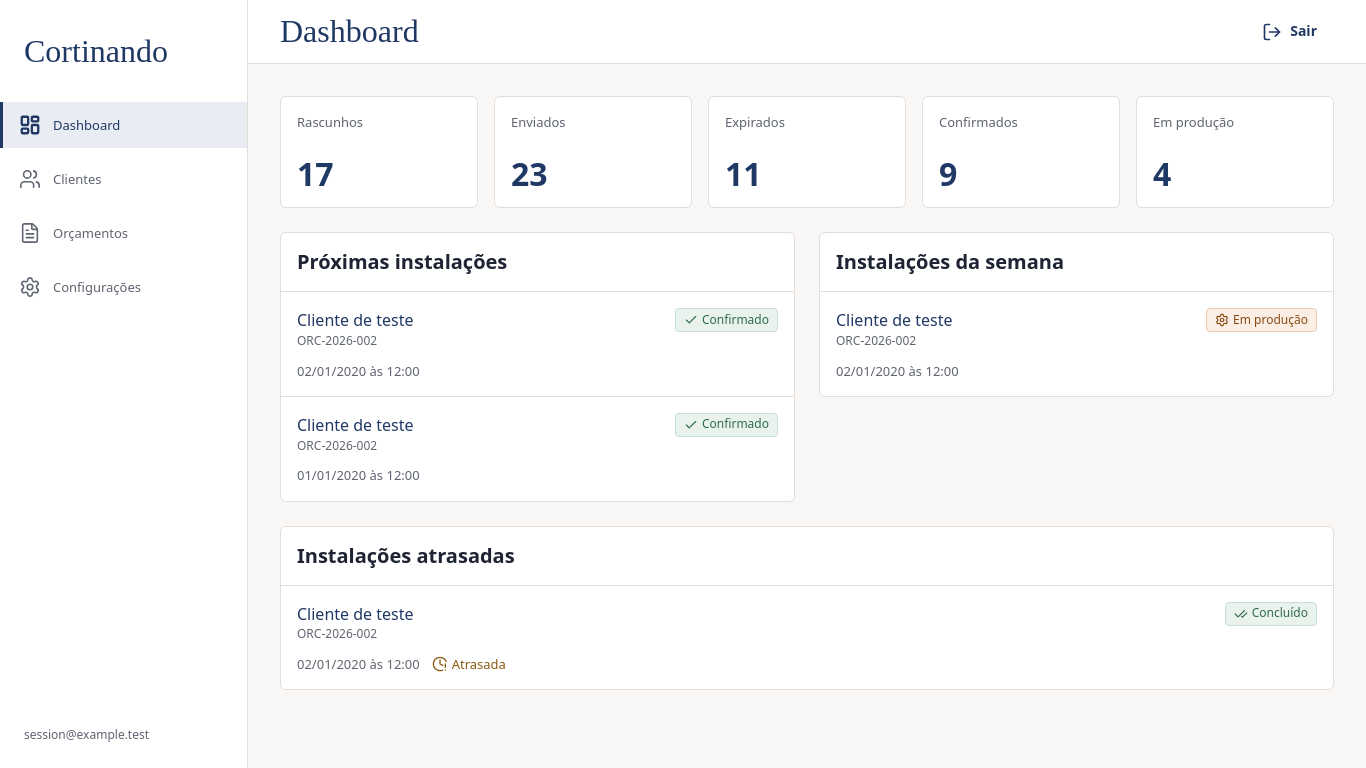
Test case: navigates from Confirmados to its exact filter
Click the link "Confirmados 9": (1021, 152) [922,96,1120,208]
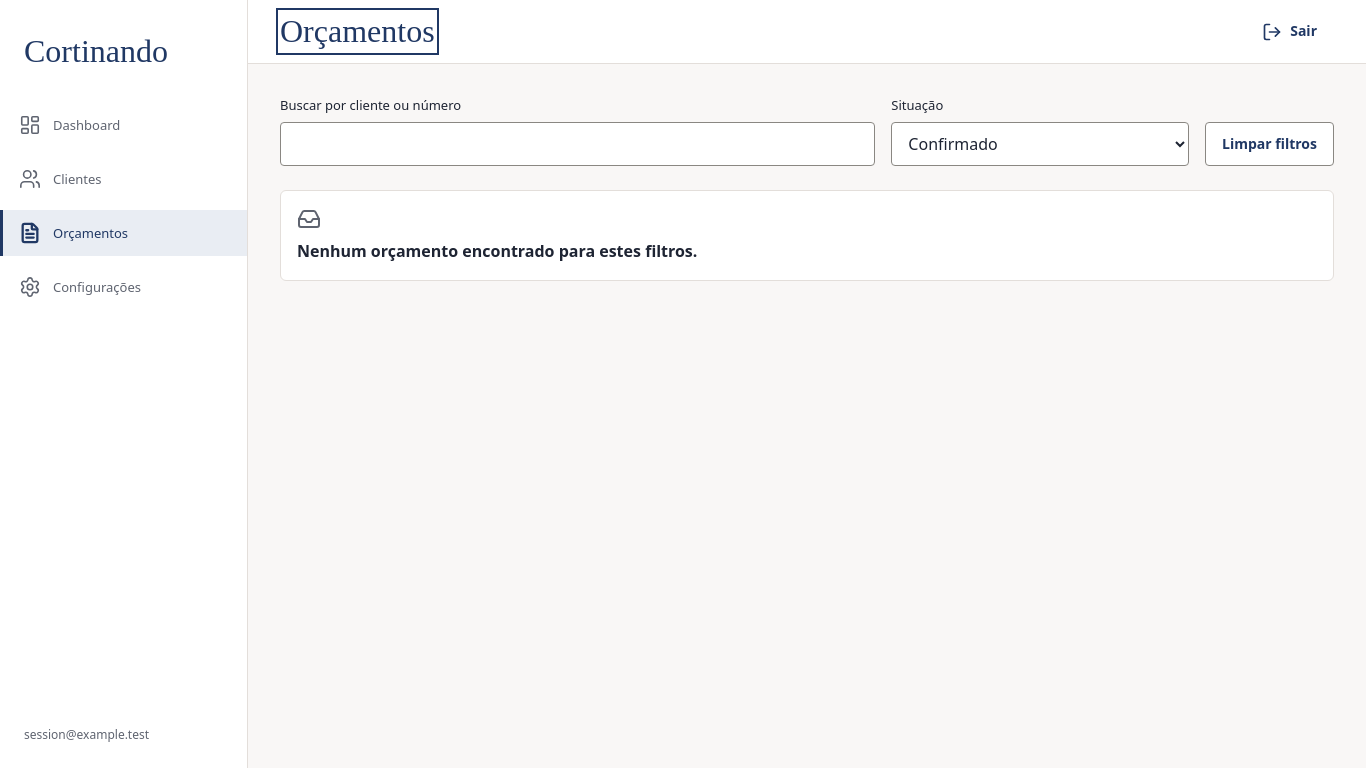
expect the heading "Orçamentos" is shown: met, box [280,12,435,51]
